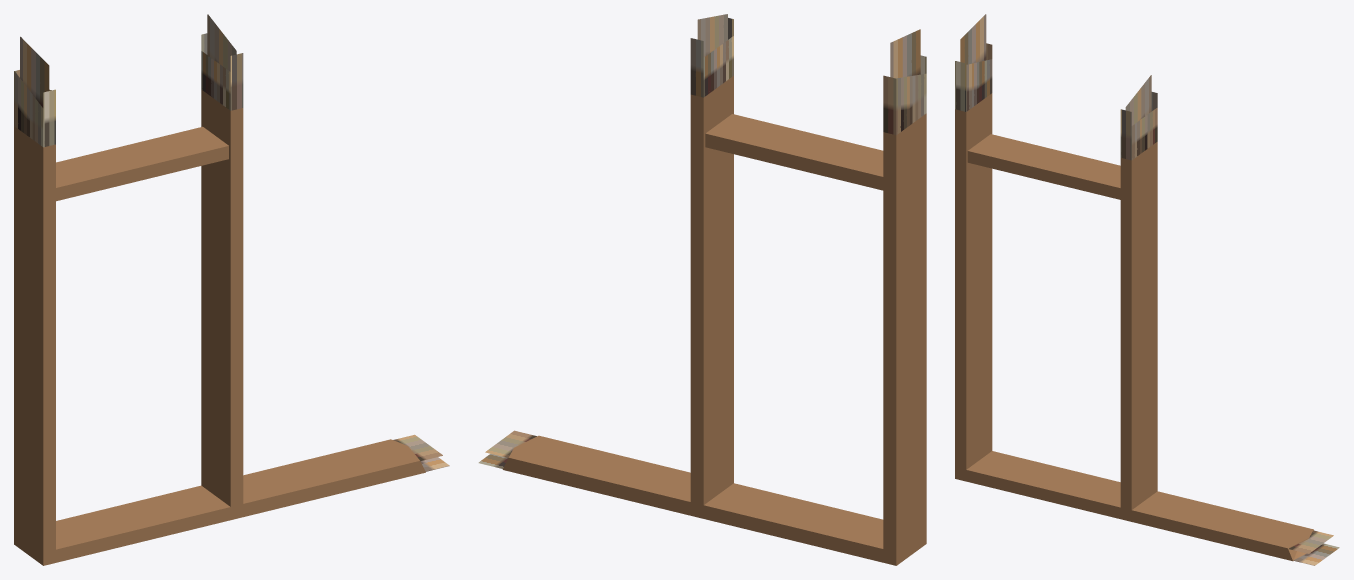
Rendered from DBK_WoodFrame_End_B.fbx.
The picture shows the model from 3 angles, left to right: view 1: azimuth 30°, elevation 25°; view 2: azimuth 150°, elevation 25°; view 3: azimuth 330°, elevation 25°; orthographic projection. The views are drawn at different scales.
Visible parts, largest first — view 1: DBK_WoodFrame_End_B; view 2: DBK_WoodFrame_End_B; view 3: DBK_WoodFrame_End_B.
Part boxes in pixels (bbox=[...]): DBK_WoodFrame_End_B: bbox=[14, 14, 449, 565]; DBK_WoodFrame_End_B: bbox=[478, 14, 926, 565]; DBK_WoodFrame_End_B: bbox=[955, 14, 1339, 565].
Size of the model in its own units: 160 by 191 by 20.
